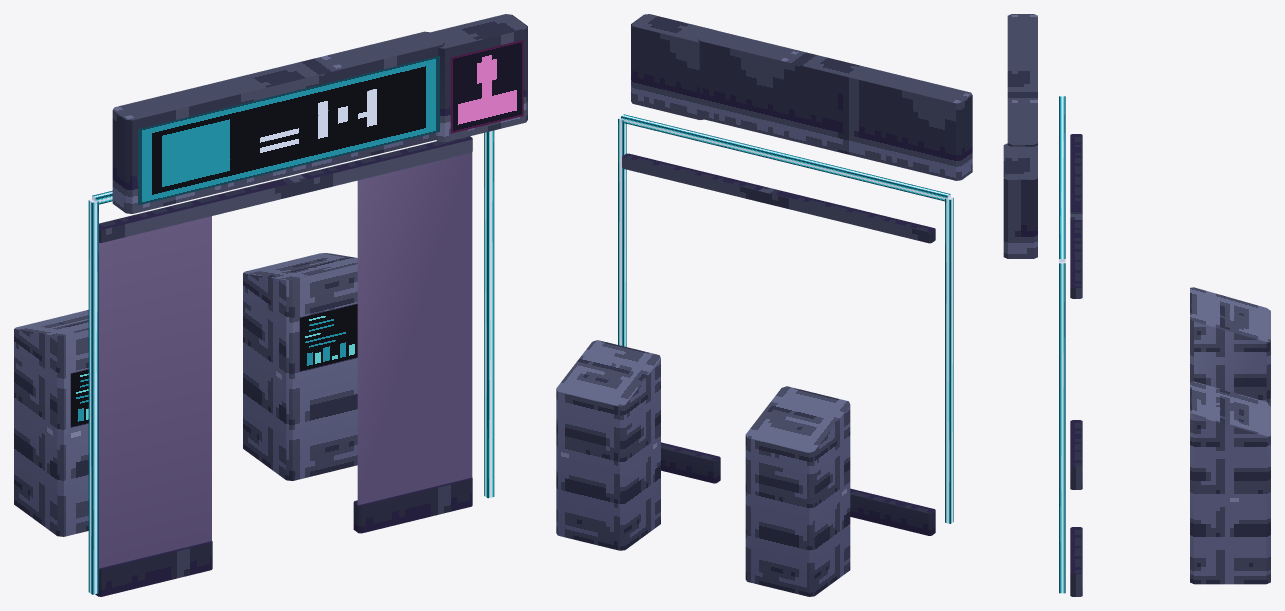
The model's file is cysign.arcade.glb.
3 renders of one model, left to right at view 1: azimuth 30°, elevation 25°; view 2: azimuth 150°, elevation 25°; view 3: azimuth 270°, elevation 25°, orthographic. The views are drawn at different scales.
Parts seen in each view (by area): view 1: kit_card_cards, kit_front, kit_chase; view 2: kit_front, kit_chase; view 3: kit_front, kit_chase.
Part boxes in pixels (x1,y1,x2,y2): kit_card_cards: (70, 40, 523, 568); kit_front: (14, 14, 527, 596); kit_chase: (88, 130, 494, 594); kit_front: (556, 14, 972, 596); kit_chase: (618, 114, 953, 523); kit_front: (1003, 14, 1270, 596); kit_chase: (1059, 96, 1065, 593).
Size of the model in its own units: 3.89 by 4.64 by 2.67.
6 materials, 5 textured.
